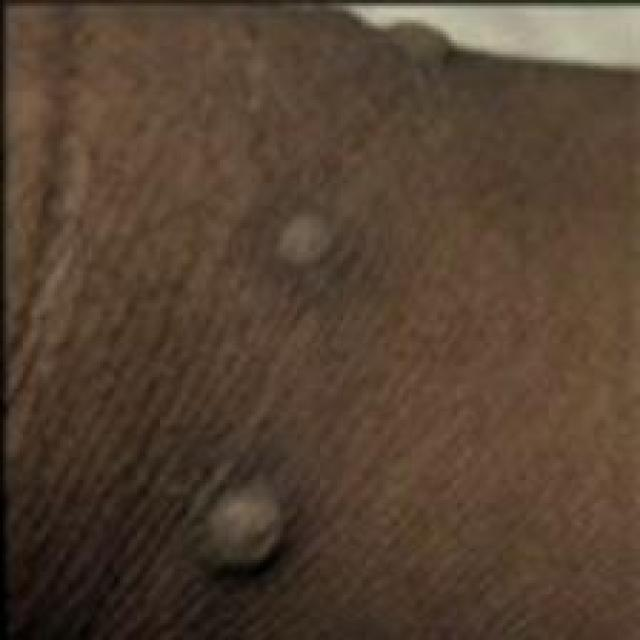monkeypox: (105, 0, 525, 591)
